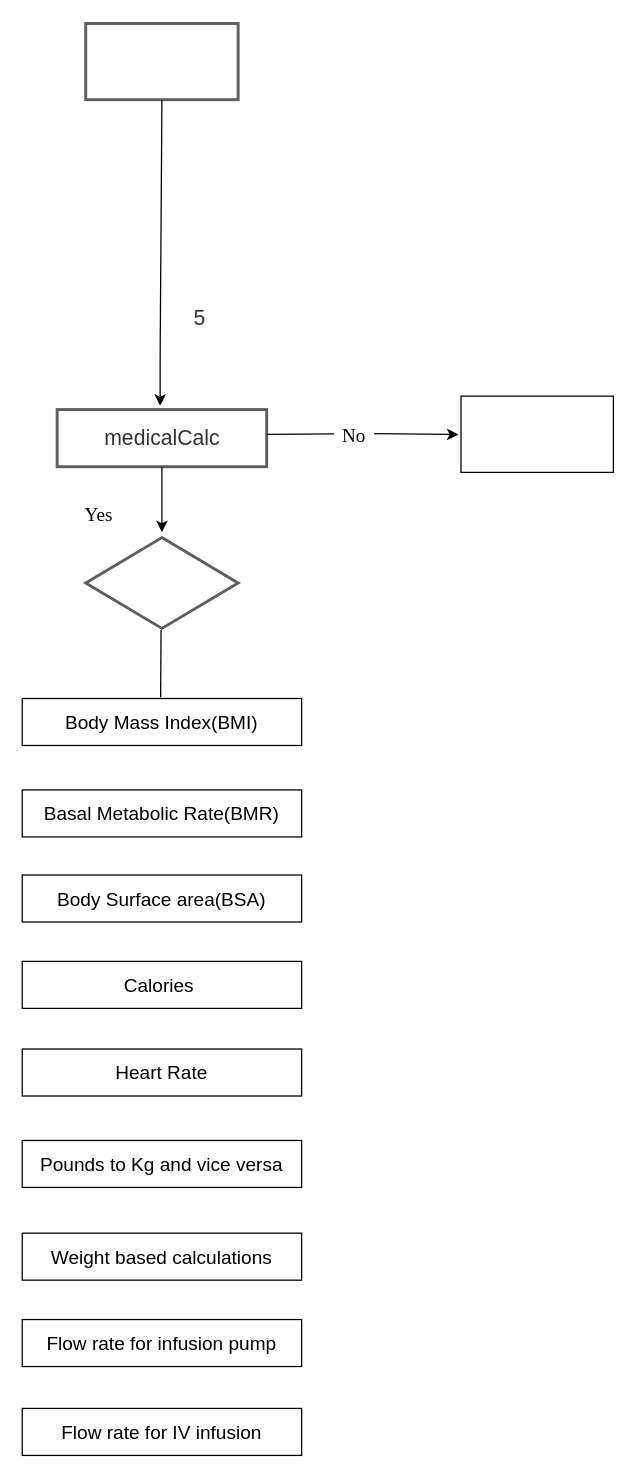
Image size: 636x1478. Some labels were removed from this diagram. Each missing label, with the centre of its shape:
"Choose" belongs at point (161, 582).
"choose calc mode" belongs at point (161, 61).
"Not Found" belongs at point (536, 433).
